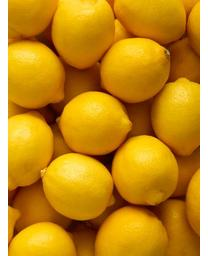lemon: (41, 152, 116, 223), (56, 92, 133, 156), (112, 134, 178, 205), (51, 0, 116, 71), (102, 36, 171, 102), (148, 76, 201, 155), (7, 39, 66, 108), (8, 111, 55, 190), (96, 206, 167, 255)
